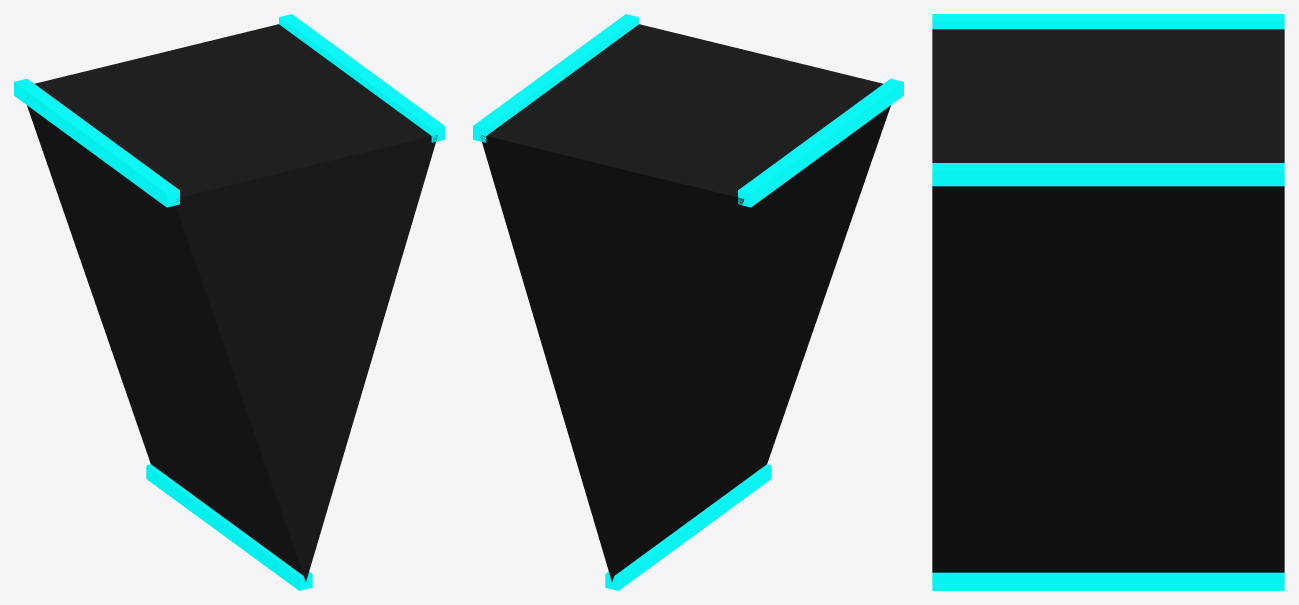
Rendered from arms.glb.
3 views of the same model, side by side, from view 1: azimuth 30°, elevation 25°; view 2: azimuth 150°, elevation 25°; view 3: azimuth 270°, elevation 25° (orthographic). The views are drawn at different scales.
Visible parts, largest first — view 1: Cube.001; view 2: Cube.001; view 3: Cube.001.
Part boxes in pixels (box(x1,y1,x2,y2)): Cube.001: box(14, 14, 444, 590); Cube.001: box(473, 14, 903, 590); Cube.001: box(932, 14, 1284, 590).
Size of the model in its own units: 2.1 by 3.1 by 2.
